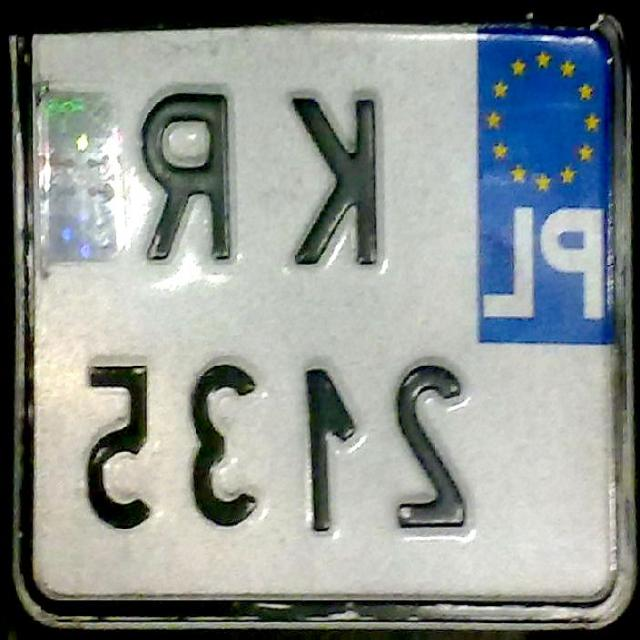pl_license_plate: (32, 30, 614, 598)
